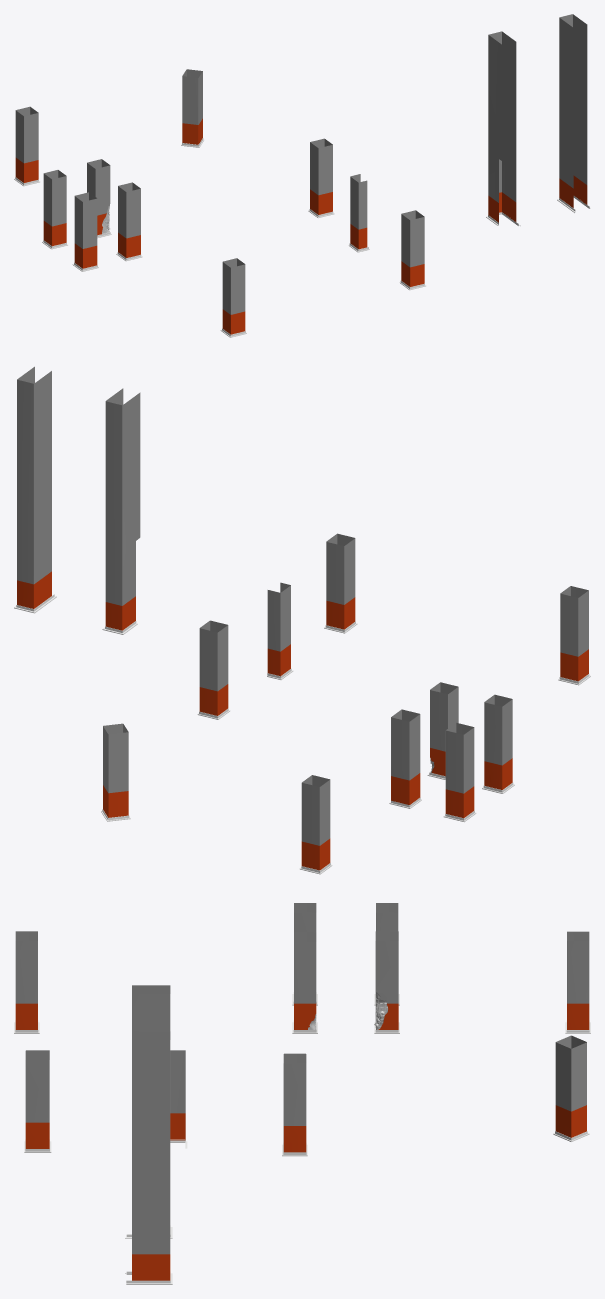
File: SM_H_Building_Tide_Loungehall_21_ATLAS.fbx
3 renders of one model, top to bottom at view 1: azimuth 30°, elevation 25°; view 2: azimuth 150°, elevation 25°; view 3: azimuth 270°, elevation 25°, orthographic. The views are drawn at different scales.
Parts seen in each view (by area): view 1: SM_H_Building_Tide_Loungehall_21_ATLAS; view 2: SM_H_Building_Tide_Loungehall_21_ATLAS; view 3: SM_H_Building_Tide_Loungehall_21_ATLAS.
Boxes of the visible parts, bbox=[...] form: SM_H_Building_Tide_Loungehall_21_ATLAS: bbox=[14, 14, 590, 337]; SM_H_Building_Tide_Loungehall_21_ATLAS: bbox=[14, 366, 590, 874]; SM_H_Building_Tide_Loungehall_21_ATLAS: bbox=[14, 903, 590, 1284].
Bounding box in the file's own units: 3570 × 3001 × 1400.
